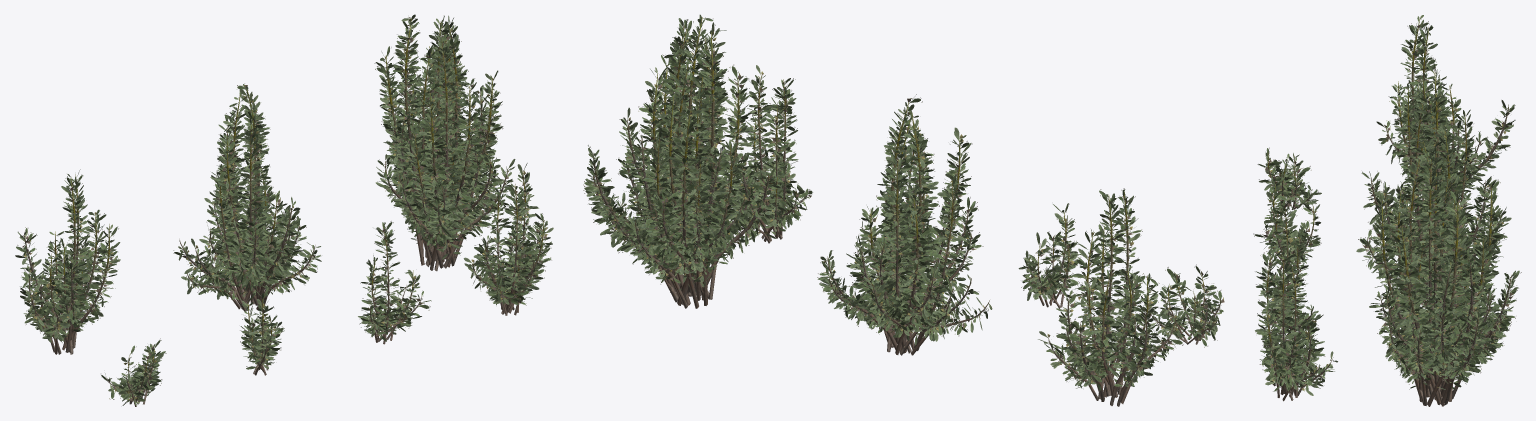
The model's file is othonna_cerarioides.glb.
3 renders of one model, left to right at view 1: azimuth 30°, elevation 25°; view 2: azimuth 150°, elevation 25°; view 3: azimuth 270°, elevation 25°, orthographic. The views are drawn at different scales.
Visible parts, largest first — view 1: othonna_cerarioides_a_mesh, othonna_cerarioides_b_mesh, othonna_cerarioides_c_mesh, othonna_cerarioides_d_mesh, othonna_cerarioides_e_mesh, othonna_cerarioides_f_mesh, othonna_cerarioides_g_mesh; view 2: othonna_cerarioides_a_mesh, othonna_cerarioides_b_mesh, othonna_cerarioides_c_mesh, othonna_cerarioides_d_mesh, othonna_cerarioides_g_mesh, othonna_cerarioides_f_mesh, othonna_cerarioides_e_mesh; view 3: othonna_cerarioides_a_mesh, othonna_cerarioides_b_mesh, othonna_cerarioides_d_mesh, othonna_cerarioides_c_mesh, othonna_cerarioides_f_mesh, othonna_cerarioides_e_mesh, othonna_cerarioides_g_mesh.
Part boxes in pixels (left/top/right/bottom): othonna_cerarioides_a_mesh: left=374, top=14, right=515, bottom=271; othonna_cerarioides_b_mesh: left=173, top=83, right=321, bottom=311; othonna_cerarioides_c_mesh: left=15, top=169, right=120, bottom=354; othonna_cerarioides_d_mesh: left=463, top=163, right=553, bottom=315; othonna_cerarioides_e_mesh: left=358, top=221, right=431, bottom=344; othonna_cerarioides_f_mesh: left=240, top=287, right=284, bottom=375; othonna_cerarioides_g_mesh: left=101, top=338, right=166, bottom=406; othonna_cerarioides_a_mesh: left=583, top=14, right=781, bottom=308; othonna_cerarioides_b_mesh: left=817, top=94, right=992, bottom=355; othonna_cerarioides_c_mesh: left=1038, top=188, right=1183, bottom=406; othonna_cerarioides_d_mesh: left=723, top=65, right=812, bottom=243; othonna_cerarioides_g_mesh: left=1143, top=264, right=1224, bottom=347; othonna_cerarioides_f_mesh: left=1018, top=203, right=1081, bottom=308; othonna_cerarioides_e_mesh: left=855, top=130, right=955, bottom=266; othonna_cerarioides_a_mesh: left=1369, top=124, right=1521, bottom=406; othonna_cerarioides_b_mesh: left=1356, top=60, right=1511, bottom=302; othonna_cerarioides_d_mesh: left=1255, top=250, right=1337, bottom=401; othonna_cerarioides_c_mesh: left=1376, top=15, right=1515, bottom=203; othonna_cerarioides_f_mesh: left=1253, top=177, right=1321, bottom=272; othonna_cerarioides_e_mesh: left=1256, top=205, right=1323, bottom=336; othonna_cerarioides_g_mesh: left=1257, top=147, right=1321, bottom=209.
Bounding box in the file's own units: 3.97 × 1.97 × 1.81.
2 materials, 2 textured.
